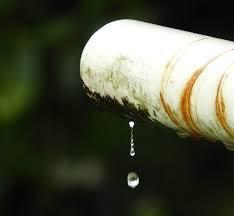water drop: (128, 120, 136, 156), (126, 172, 140, 188)
